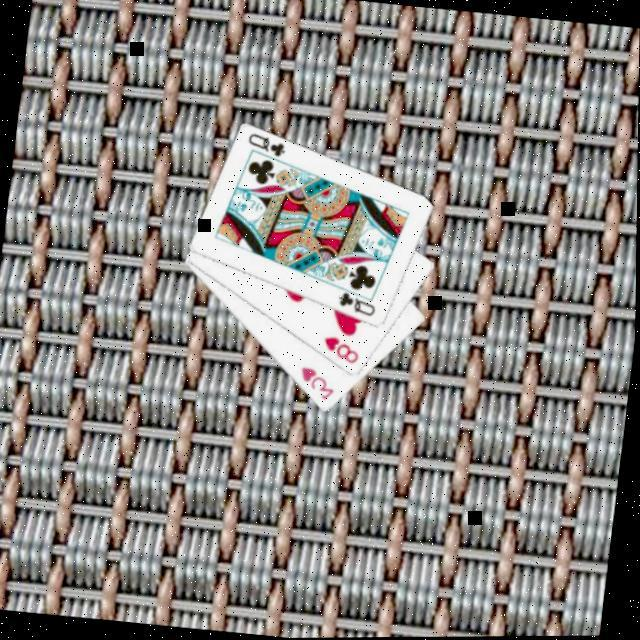3H: (297, 365, 342, 405)
8H: (321, 334, 366, 369)
QC: (336, 290, 383, 322), (245, 130, 292, 162)
